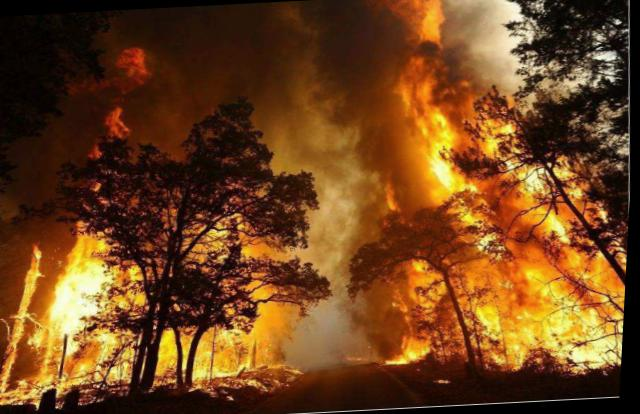fire: (368, 1, 639, 379), (0, 114, 312, 406)
